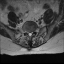CCS_stenosis: (29, 30, 30, 38)
LFS_severe_stenosis: (32, 28, 34, 34)
LLS_normal: (30, 30, 32, 36)
RFS_stenosis: (25, 29, 27, 34)
RLS_normal: (27, 29, 29, 37)
